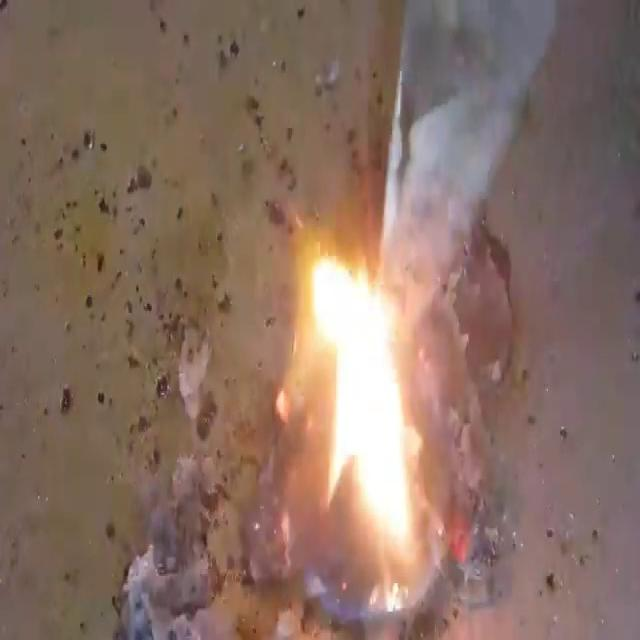Fire: (4, 4, 635, 636), (305, 247, 417, 553)
